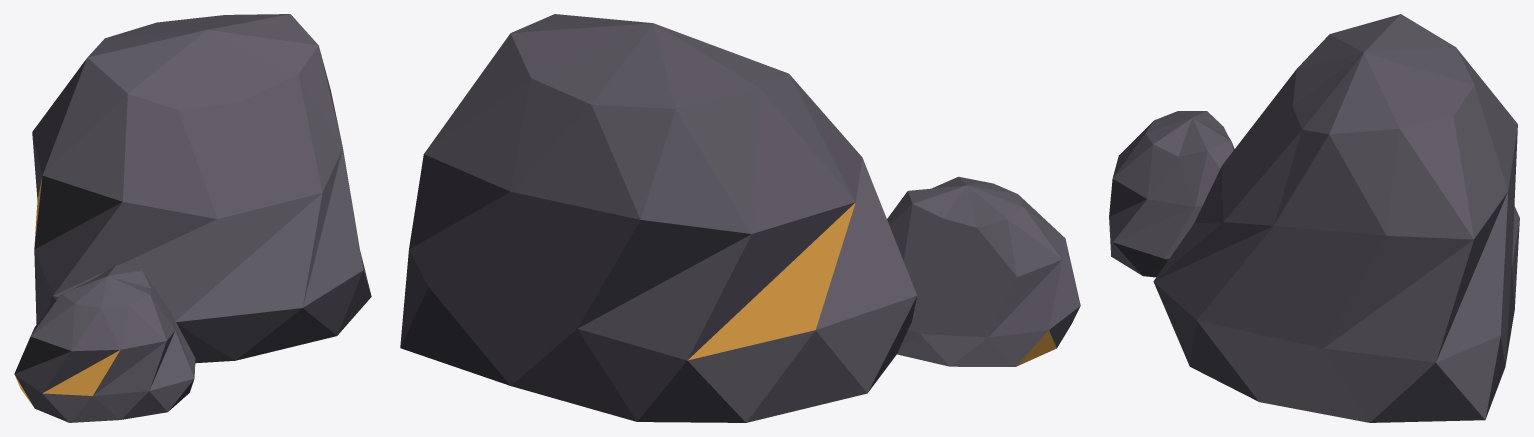
File: sky_boulder.glb
3 views of the same model, side by side, from view 1: azimuth 30°, elevation 25°; view 2: azimuth 150°, elevation 25°; view 3: azimuth 270°, elevation 25° (orthographic). The views are drawn at different scales.
Parts seen in each view (by area): view 1: sky_boulder2; view 2: sky_boulder2; view 3: sky_boulder2.
Boxes of the visible parts, x1=… form: sky_boulder2: x1=14, y1=14, x2=371, y2=422; sky_boulder2: x1=400, y1=14, x2=1080, y2=422; sky_boulder2: x1=1109, y1=14, x2=1519, y2=422.
Size of the model in its own units: 1 by 0.59 by 0.7666.
